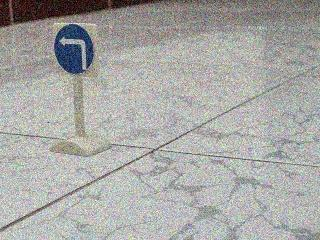left: (48, 17, 107, 81)
